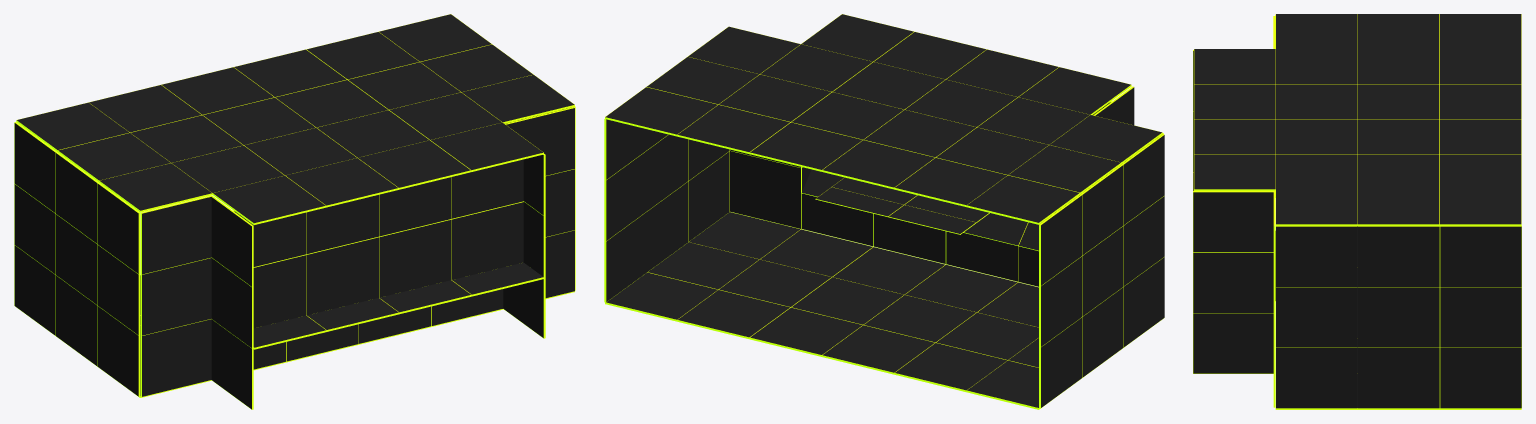
Rendered from EvokelabsRoomLowPoly.glb.
3 views of the same model, side by side, from view 1: azimuth 30°, elevation 25°; view 2: azimuth 150°, elevation 25°; view 3: azimuth 270°, elevation 25° (orthographic).
Parts seen in each view (by area): view 1: Ceiling, RightWall, Window_Shutters_Closed, WallDesk, Floor; view 2: Ceiling, Floor, RightWall, WallDesk, Desk; view 3: Ceiling, RightWall, Floor.
Part boxes in pixels (bbox=[...]): Ceiling: bbox=[16, 14, 574, 224]; RightWall: bbox=[14, 106, 575, 409]; Window_Shutters_Closed: bbox=[233, 159, 523, 328]; WallDesk: bbox=[253, 262, 543, 369]; Floor: bbox=[139, 275, 574, 397]; Ceiling: bbox=[605, 14, 1162, 224]; Floor: bbox=[605, 212, 1040, 409]; RightWall: bbox=[604, 86, 1164, 408]; WallDesk: bbox=[801, 169, 1055, 286]; Desk: bbox=[815, 177, 989, 234]; Ceiling: bbox=[1194, 14, 1521, 225]; RightWall: bbox=[1193, 15, 1521, 408]; Floor: bbox=[1275, 226, 1521, 409].
Bounding box in the file's own units: 6.59 × 2.7 × 4.34.
